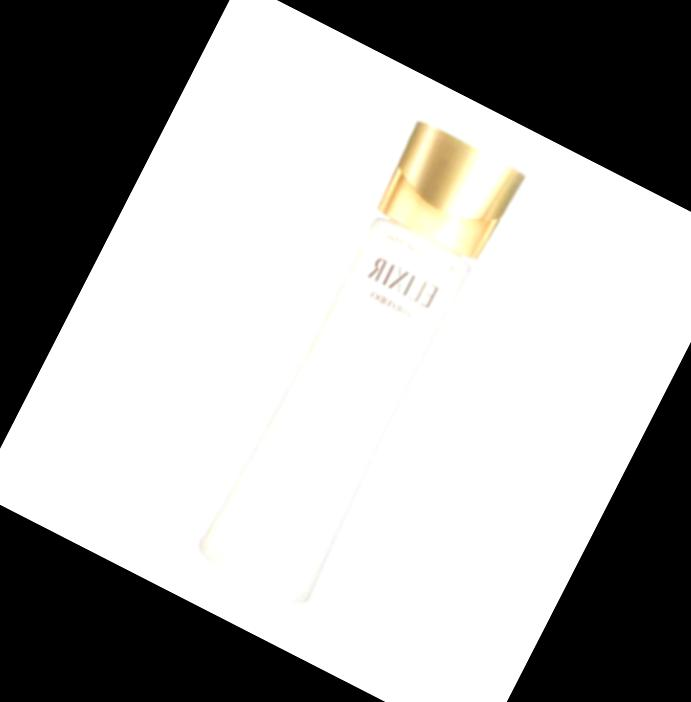cosmetic: (191, 115, 526, 609)
